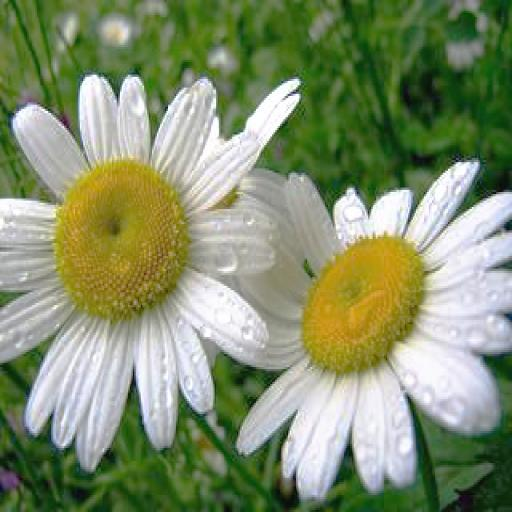daisy: (256, 160, 509, 474)
